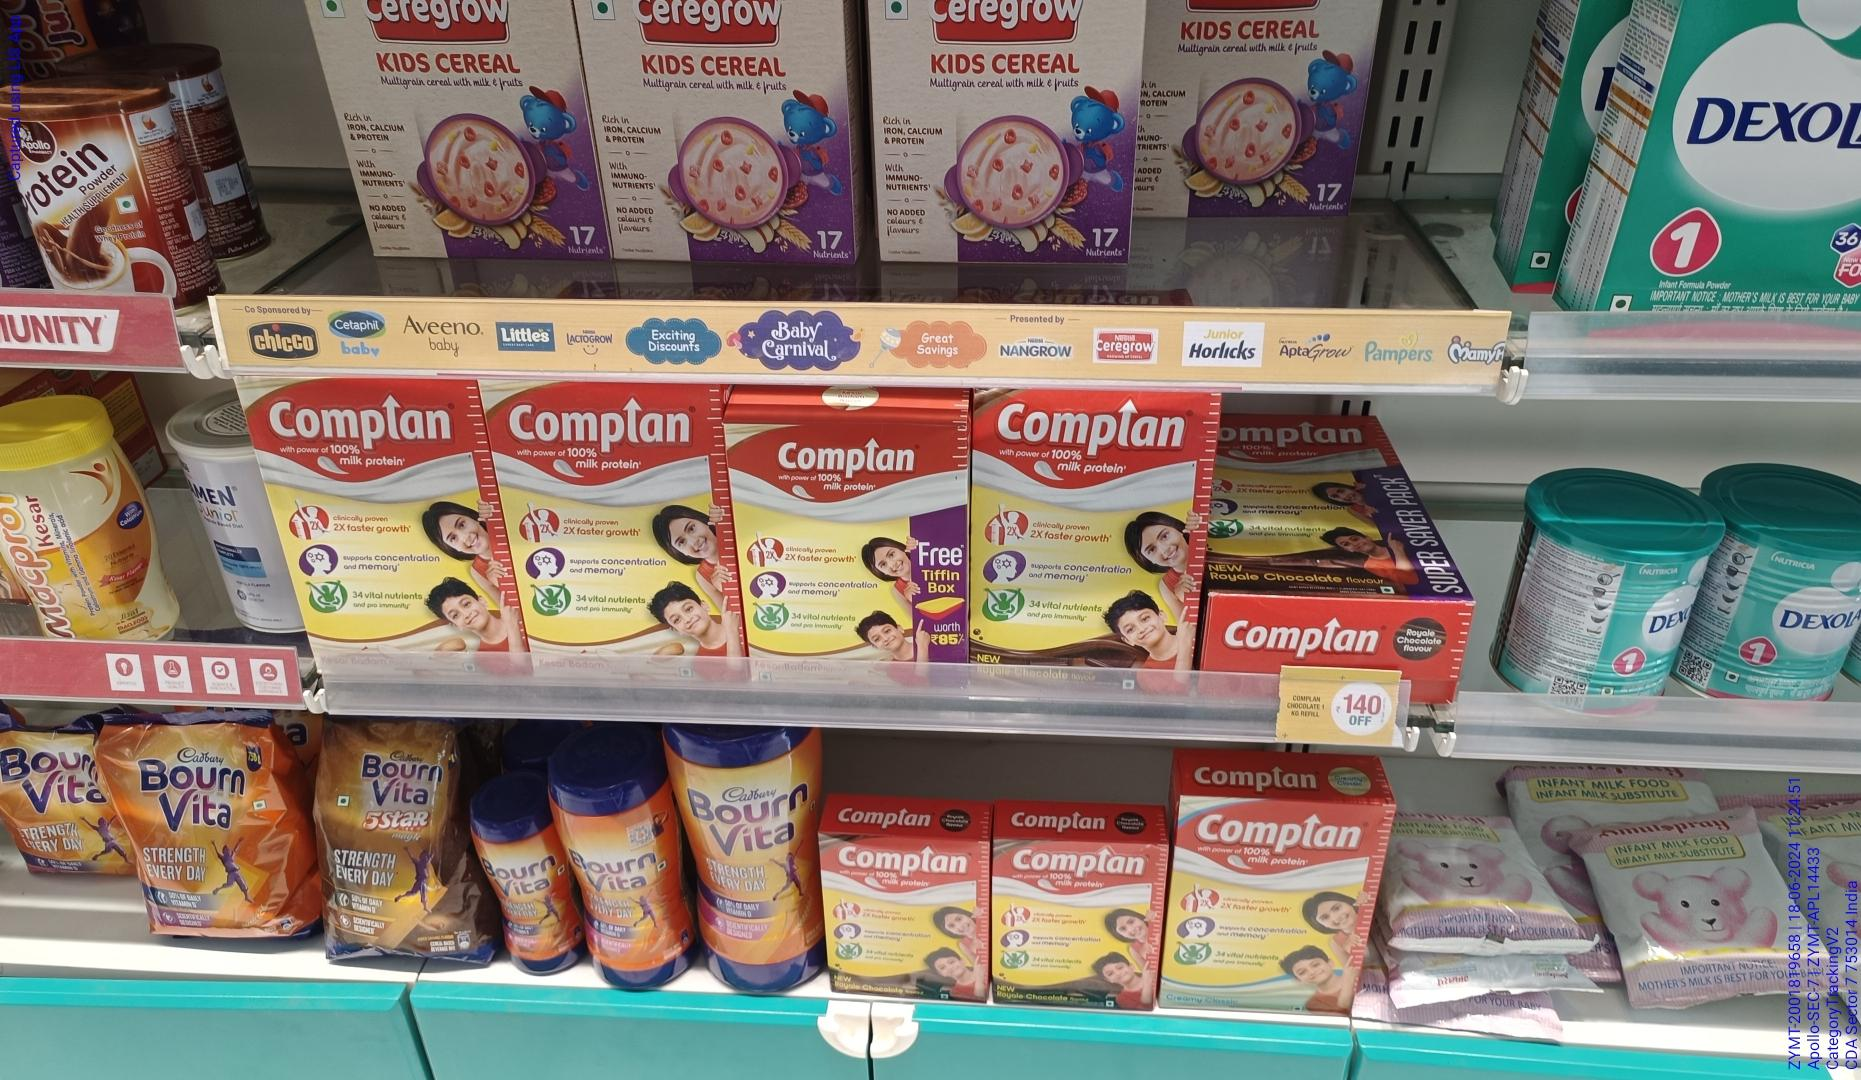BOURN_VITA_1_KG_JAR: (694, 725, 810, 986)
BOURN_VITA_200_G_JAR: (486, 809, 565, 976)
BOURN_VITA_500_G_JAR: (578, 774, 680, 990)
BOURN_VITA_750_G_POUCH: (116, 717, 297, 944)
BOURN_VITA_FIVE_STAR_MAGIC_750_G_POUCH: (320, 717, 477, 969)
COMPLAN_CHOCOLATE_200_GMS_PACK: (821, 833, 986, 998), (992, 840, 1157, 1003)
COMPLAN_CHOCOLATE_500_GMS_PACK: (970, 388, 1193, 679)
COMPLAN_CREAMY_CLASSIC_500_G_PACK: (1167, 791, 1358, 1017)
COMPLAN_KESAR_BADAM_500_GMS_PACK: (531, 381, 731, 681), (745, 424, 964, 675)
